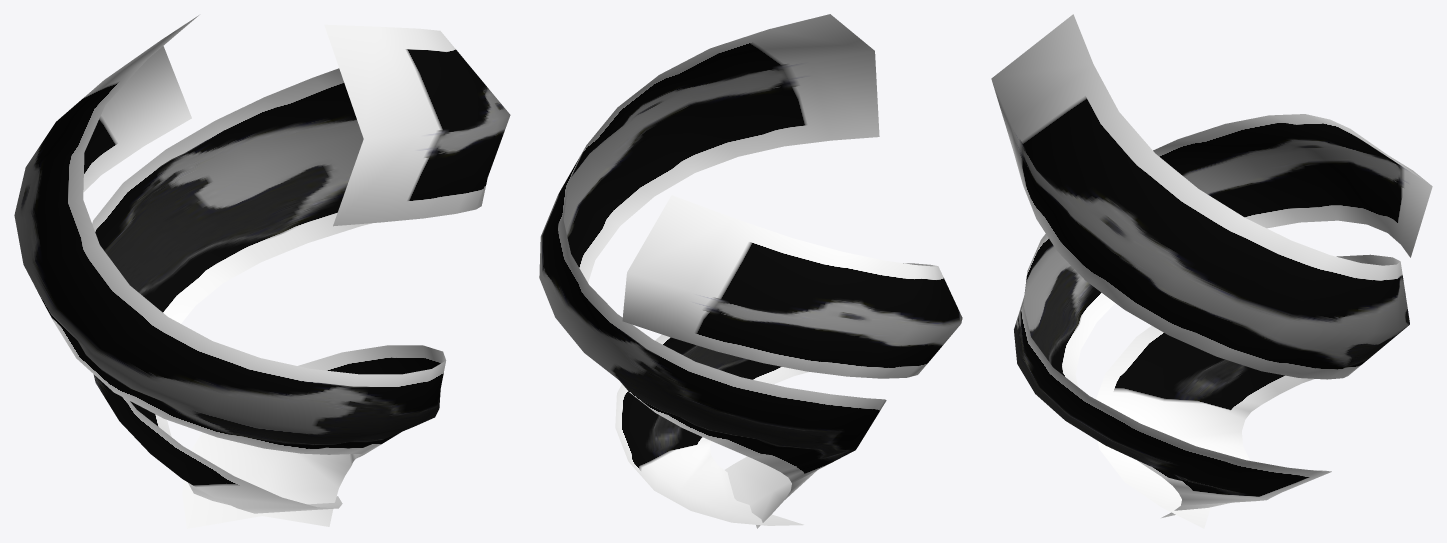
File: other_04.fbx
The picture shows the model from 3 angles, left to right: view 1: azimuth 30°, elevation 25°; view 2: azimuth 150°, elevation 25°; view 3: azimuth 270°, elevation 25°; orthographic projection. The views are drawn at different scales.
Visible parts, largest first — view 1: other_04; view 2: other_04; view 3: other_04.
Boxes of the visible parts, left/top/right/bottom form: other_04: left=14, top=15, right=510, bottom=528; other_04: left=539, top=14, right=962, bottom=528; other_04: left=991, top=14, right=1432, bottom=528.
Bounding box in the file's own units: 2.17 × 2.55 × 2.12.
